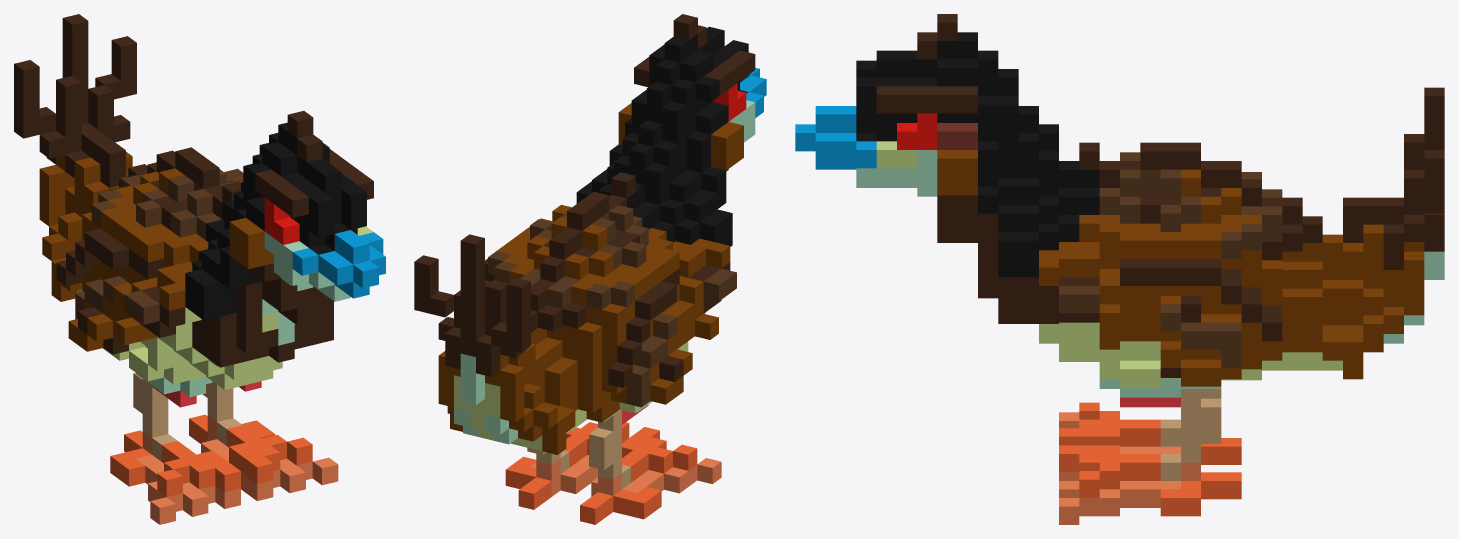
The model's file is Boss_Boss_Pato_fase_1.obj.
The picture shows the model from 3 angles, left to right: view 1: azimuth 30°, elevation 25°; view 2: azimuth 150°, elevation 25°; view 3: azimuth 270°, elevation 25°; orthographic projection. The views are drawn at different scales.
Visible parts, largest first — view 1: Boss_Boss_Pato_fase_1; view 2: Boss_Boss_Pato_fase_1; view 3: Boss_Boss_Pato_fase_1.
Boxes of the visible parts, x1,y1,x2,y2 form: Boss_Boss_Pato_fase_1: (14,14,385,524); Boss_Boss_Pato_fase_1: (414,14,766,524); Boss_Boss_Pato_fase_1: (795,14,1444,524).
Size of the model in its own units: 13 by 25 by 32.
Materials: 1 (1 with a texture image).
